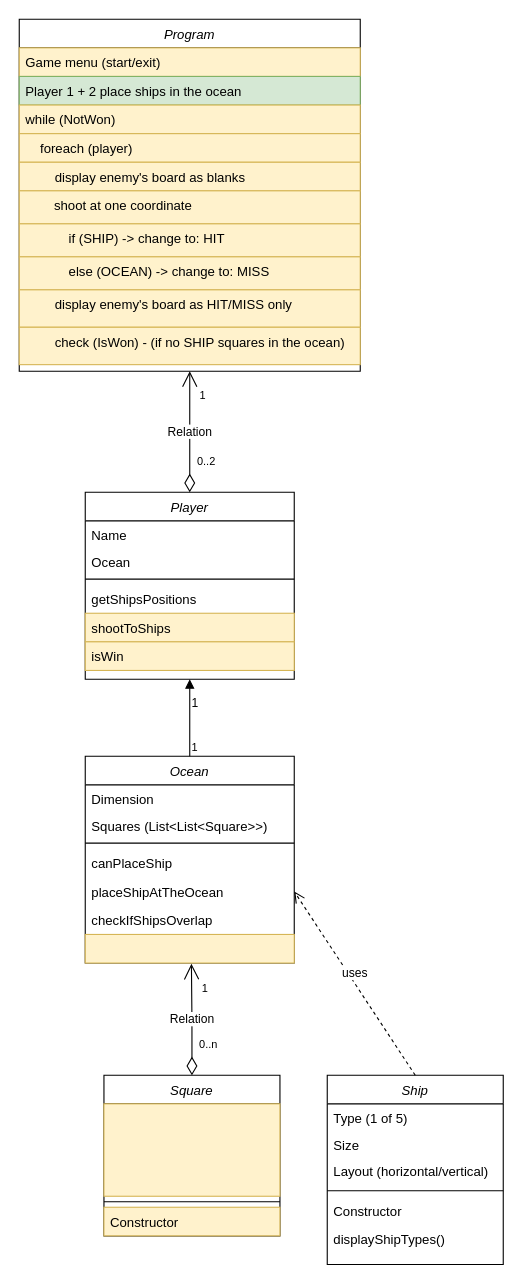
Image size: 523x1284. Some labels were removed from this diagram. The shapes that lost their labels are listed below. From the top down, each one's centre as x and y in pixels, then its label:
the point at 189,948: checkIfShipsTouchEachOther
the point at 191,1149: Fill: - SHIP - OCEAN - HIT - MISS
